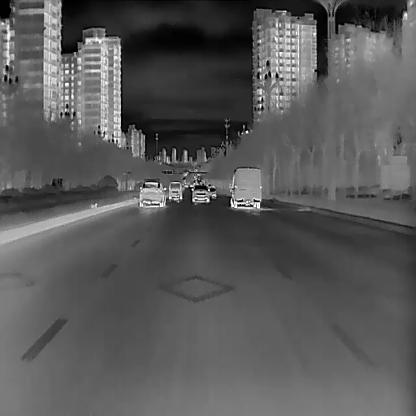car: (228, 166, 260, 208), (137, 180, 166, 209), (191, 185, 210, 203), (167, 180, 181, 202), (209, 185, 216, 199)
